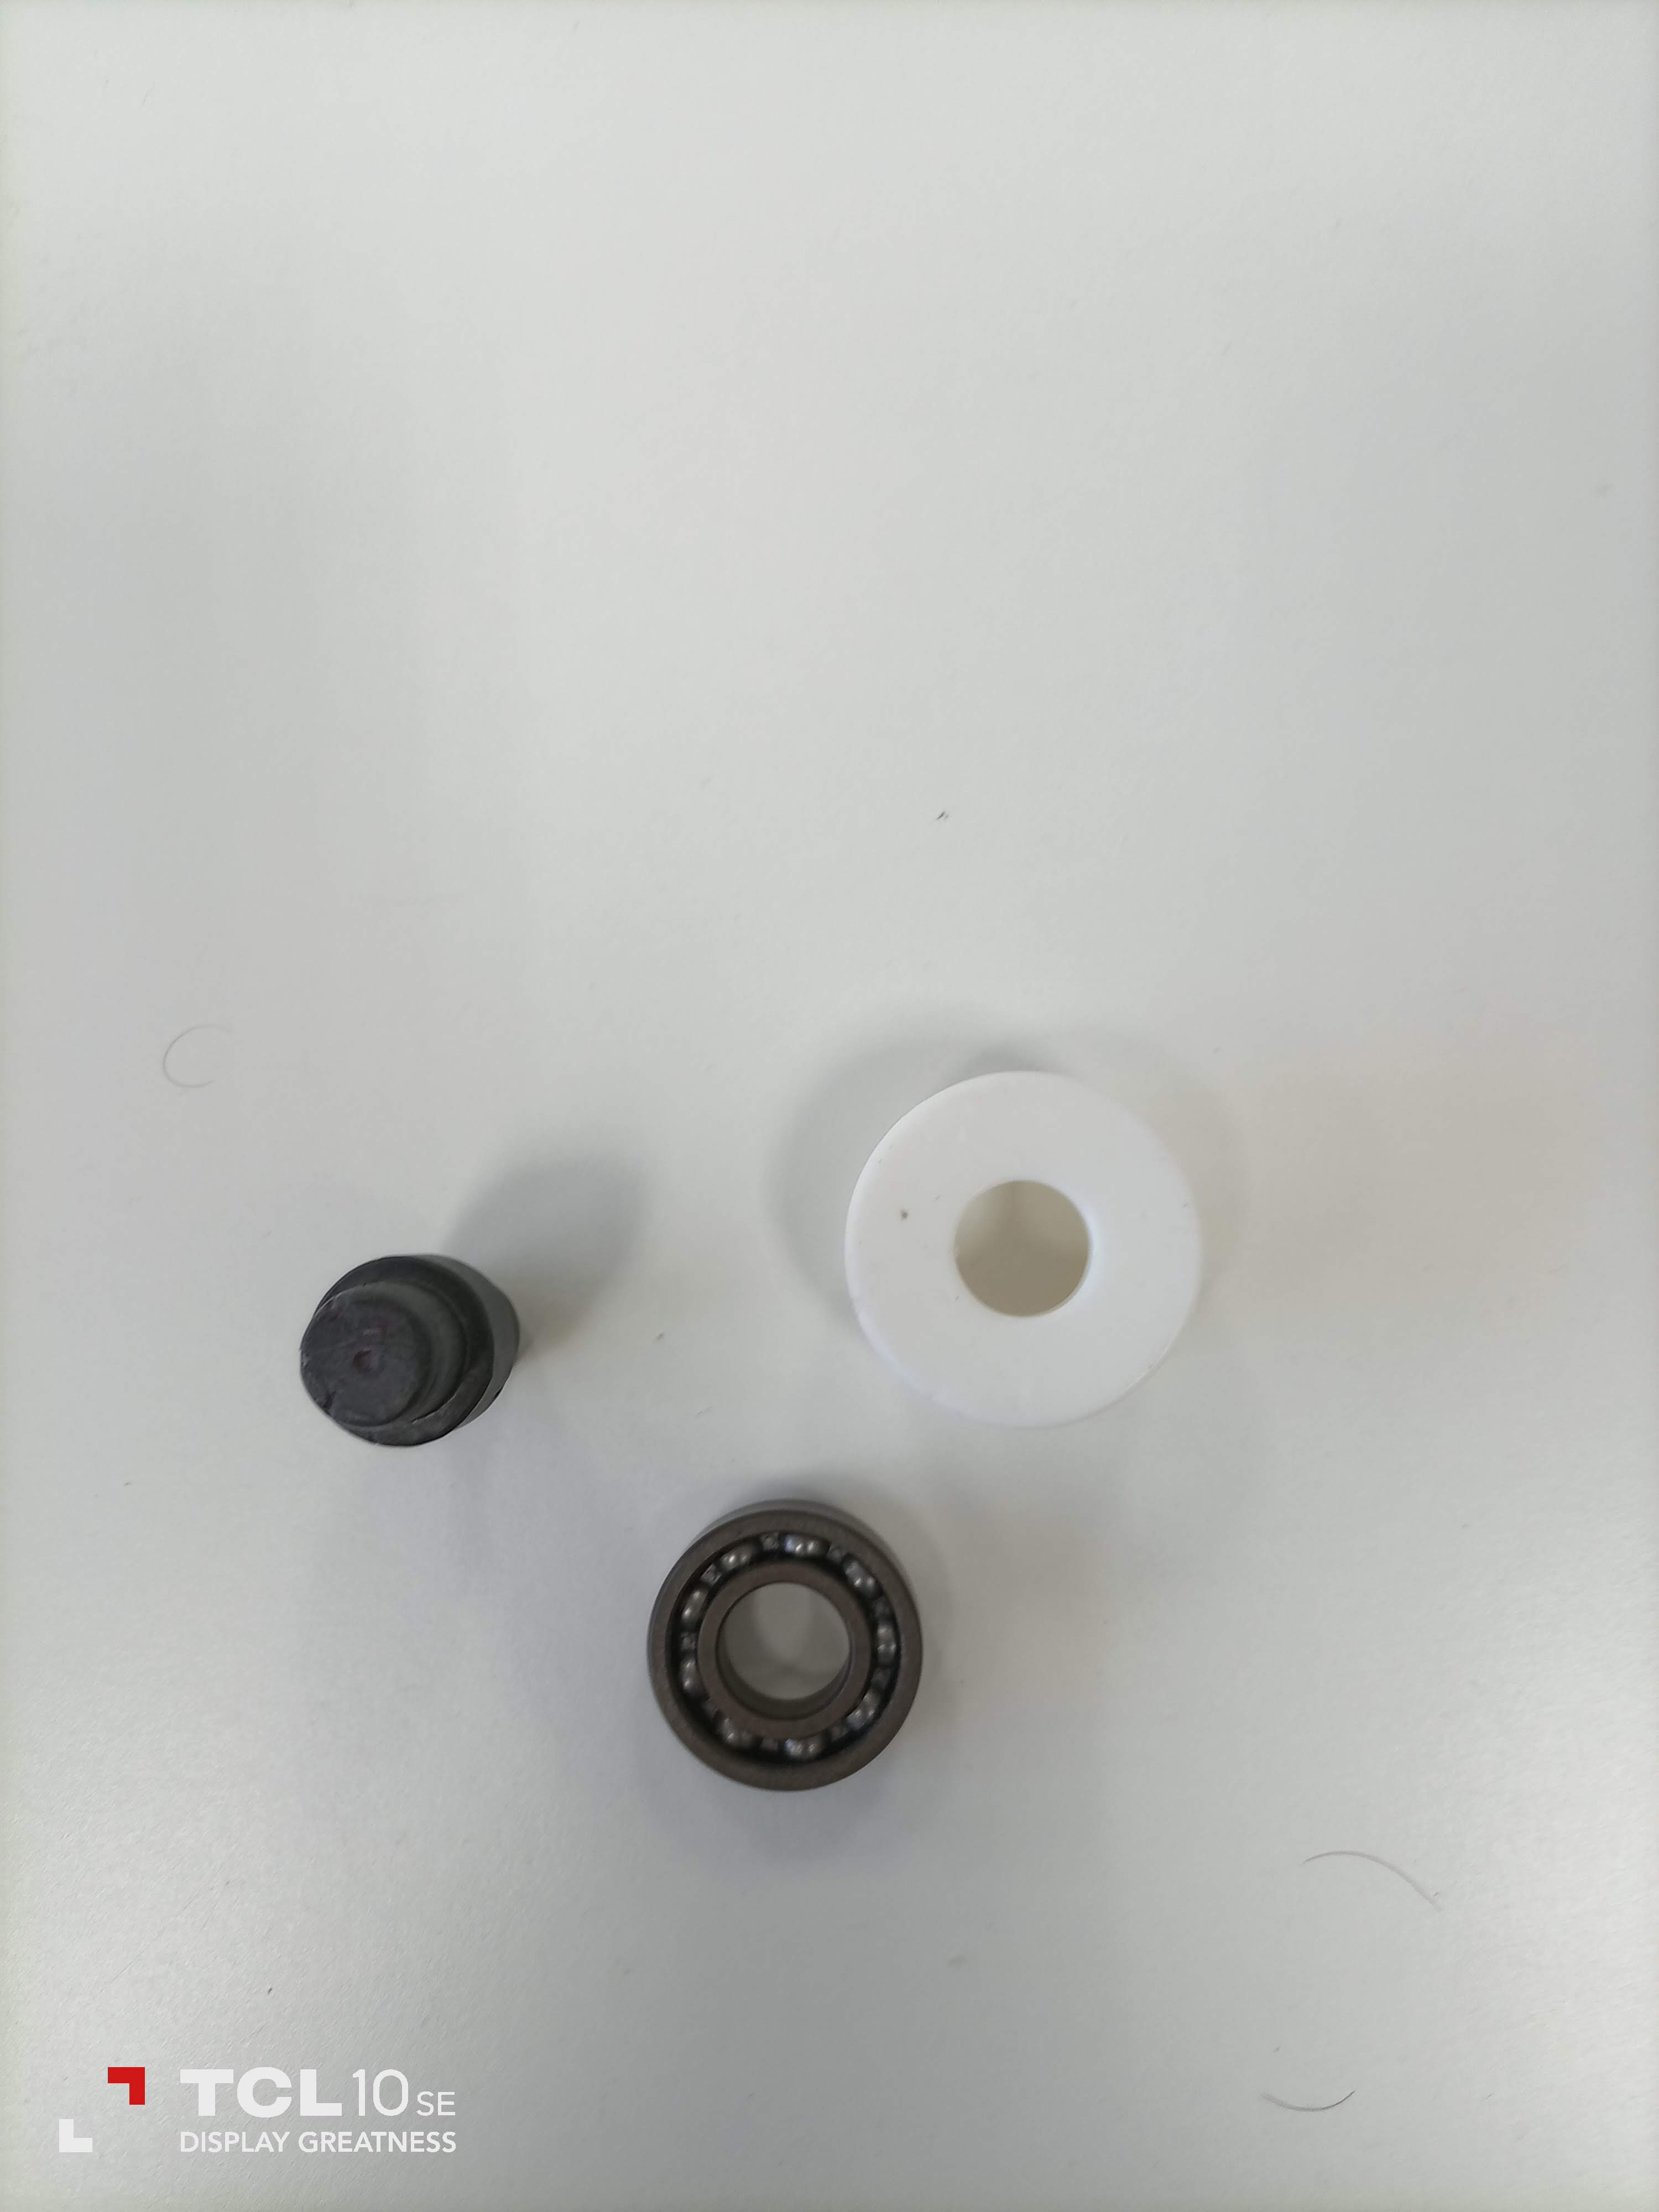Ardatza: (272, 1245, 526, 1440)
Roda: (652, 1508, 918, 1792)
Tapa: (847, 1087, 1230, 1433)
